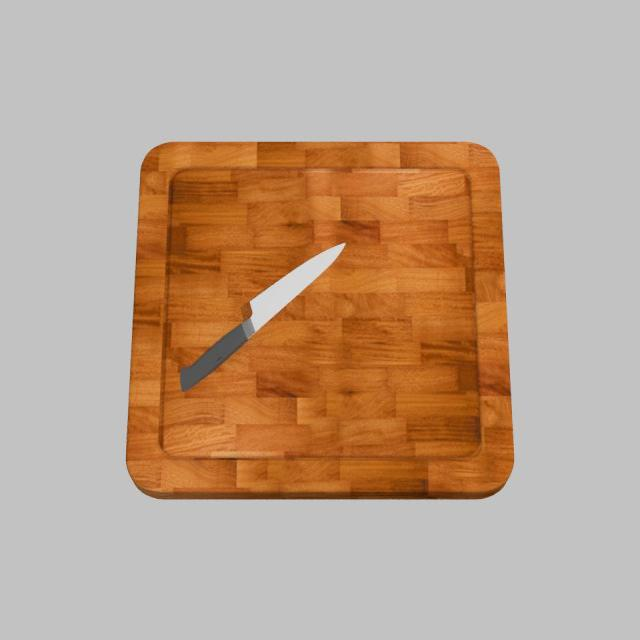knife: (177, 324, 248, 396)
